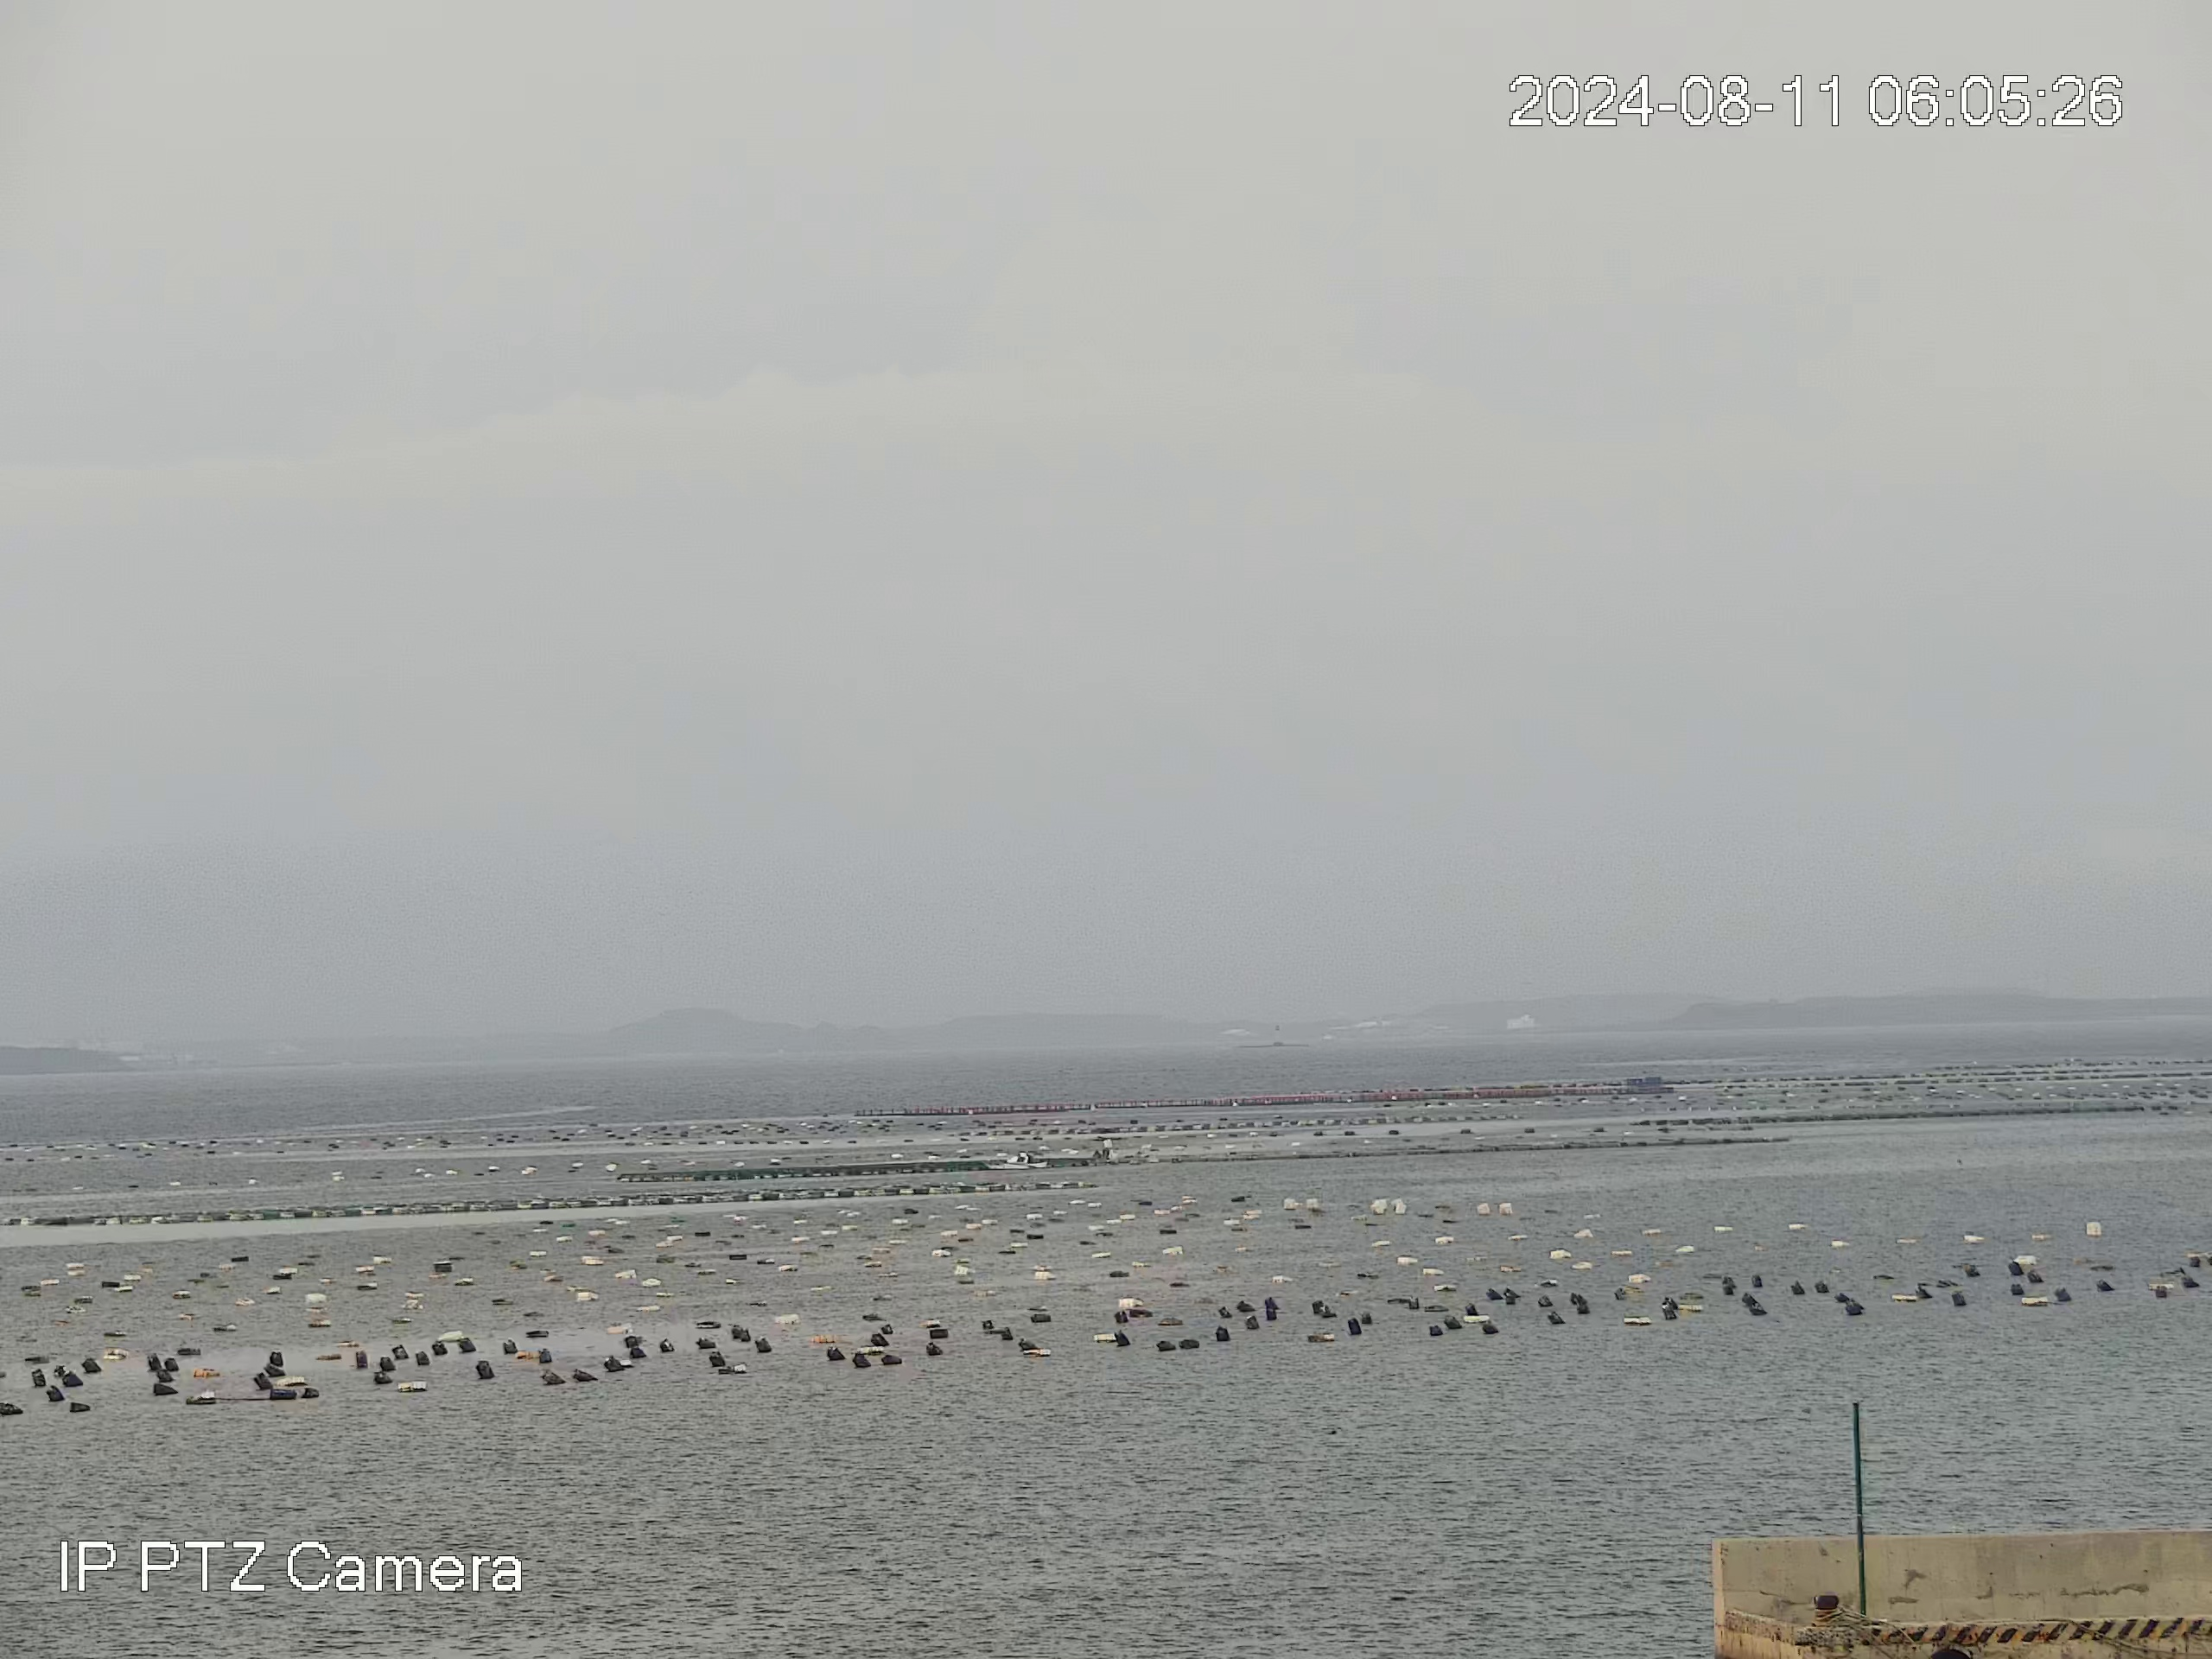boat: (978, 1149, 1050, 1172)
